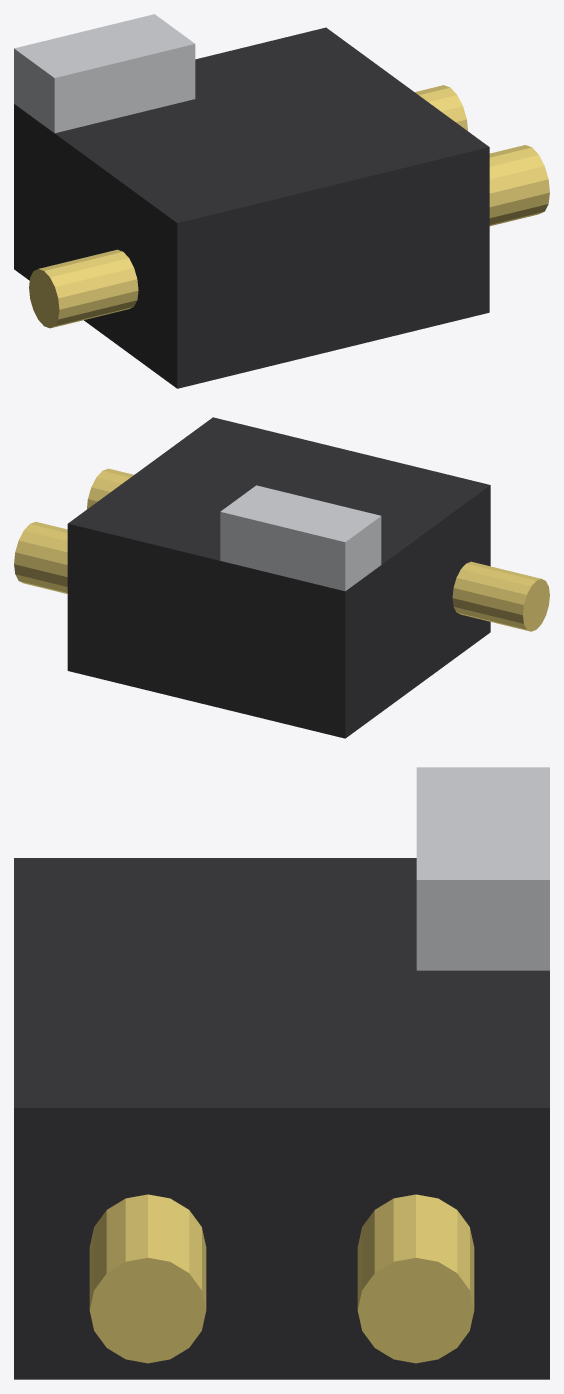
The model's file is quicrun-wp-1060.glb.
3 renders of one model, top to bottom at view 1: azimuth 30°, elevation 25°; view 2: azimuth 150°, elevation 25°; view 3: azimuth 270°, elevation 25°, orthographic. The views are drawn at different scales.
Parts seen in each view (by area): view 1: quicrun-wp-1060_case, quicrun-wp-1060_capacitor_block, quicrun-wp-1060_signal, quicrun-wp-1060_motor_bullet_a, quicrun-wp-1060_motor_bullet_b; view 2: quicrun-wp-1060_case, quicrun-wp-1060_capacitor_block, quicrun-wp-1060_signal, quicrun-wp-1060_motor_bullet_b, quicrun-wp-1060_motor_bullet_a; view 3: quicrun-wp-1060_case, quicrun-wp-1060_capacitor_block, quicrun-wp-1060_motor_bullet_a, quicrun-wp-1060_motor_bullet_b.
Boxes of the visible parts, box(x1,y1,x2,y2) form: quicrun-wp-1060_case: box(14, 27, 489, 388); quicrun-wp-1060_capacitor_block: box(14, 14, 195, 133); quicrun-wp-1060_signal: box(29, 249, 138, 328); quicrun-wp-1060_motor_bullet_a: box(489, 145, 549, 226); quicrun-wp-1060_motor_bullet_b: box(415, 85, 467, 130); quicrun-wp-1060_case: box(67, 417, 490, 738); quicrun-wp-1060_capacitor_block: box(220, 485, 381, 591); quicrun-wp-1060_signal: box(452, 561, 549, 631); quicrun-wp-1060_motor_bullet_b: box(14, 522, 67, 593); quicrun-wp-1060_motor_bullet_a: box(86, 468, 133, 509); quicrun-wp-1060_case: box(14, 858, 549, 1379); quicrun-wp-1060_capacitor_block: box(416, 767, 549, 970); quicrun-wp-1060_motor_bullet_a: box(89, 1194, 206, 1363); quicrun-wp-1060_motor_bullet_b: box(357, 1194, 474, 1363).
Bounding box in the file's own units: 0.0555 × 0.024 × 0.0322.
